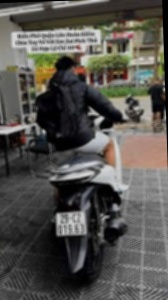Bien-so: (52, 205, 88, 231)
